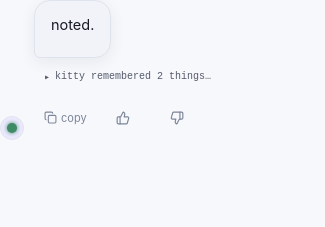
Test: CR-06 memory forget with undo grace › undo within the grace period cancels — no DELETE, memory intact
Click the button "▸ kitty remembered 2 things…".
click(128, 77)  # box [40,61,215,93]
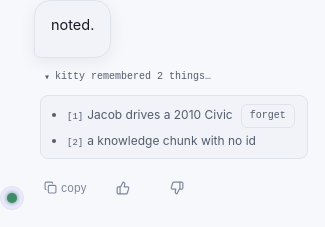
Click the button with aria-label "Forget memory: Jacob drives a 2010 Civic".
click(268, 116)  # box [241,104,295,128]
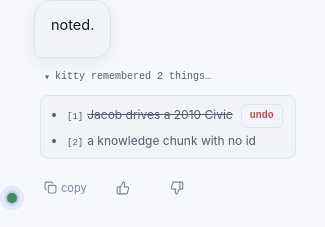
Click the button with aria-label "Undo forgetting: Jacob drives a 2010 Civic".
click(262, 116)  # box [241,104,283,128]
Wait 10000 ms
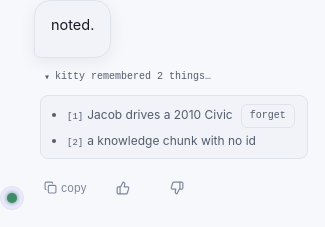
Result: the button with aria-label "Forget memory: Jacob drives a 2010 Civic" is shown at [241,104,295,128]
